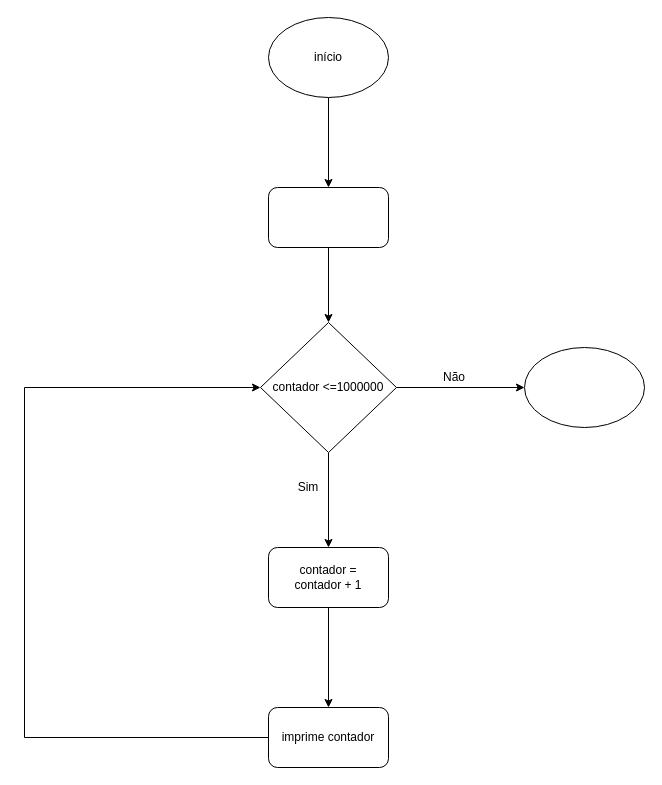
This 662x785 diagram has some shape labels left out. The centre of each missing label's shape, as x and y in pixels:
"contador = 0" belongs at (328,217).
"Fim" belongs at (584,387).
